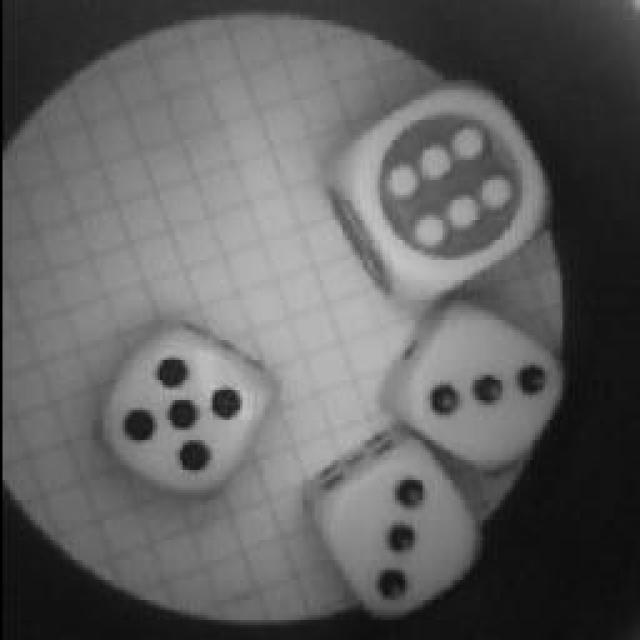dice_3: (388, 287, 568, 475), (310, 440, 482, 618)
dice_5: (90, 318, 272, 498)
dice_6: (328, 80, 558, 295)
